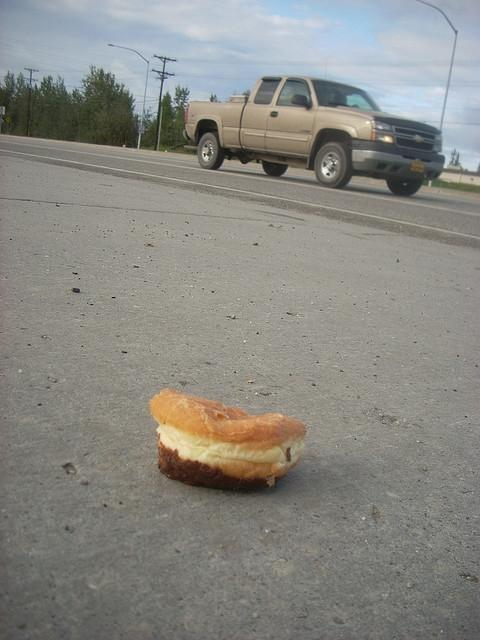truck: (183, 78, 446, 199)
